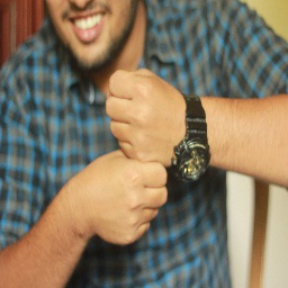G: (91, 68, 181, 246)
